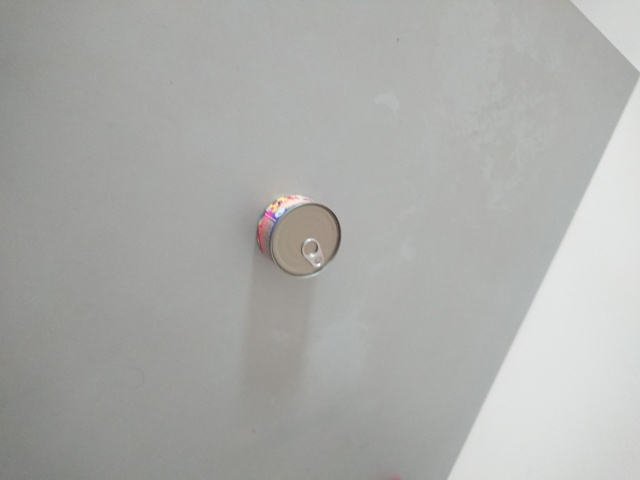Giana Tuna Salad Mexico 185g: (253, 191, 344, 282)
